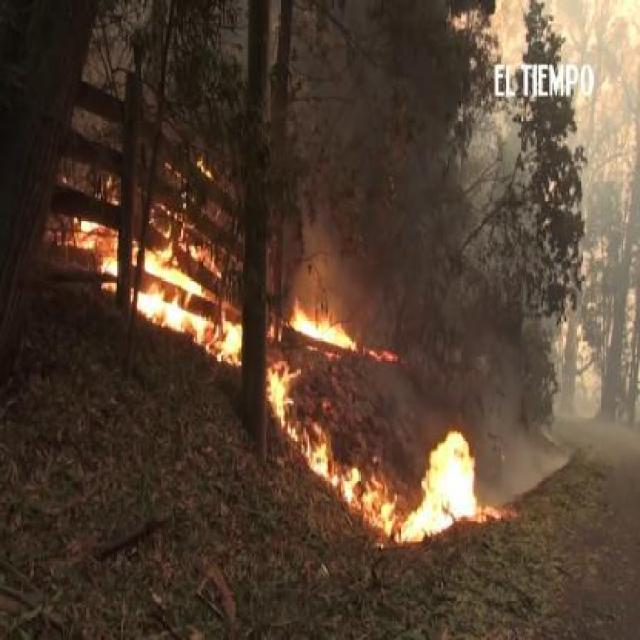Fire: (134, 222, 243, 372), (290, 425, 400, 545), (404, 432, 482, 540), (70, 212, 119, 292), (288, 300, 357, 352), (268, 352, 300, 439), (195, 150, 214, 182), (368, 347, 401, 365), (106, 174, 119, 208)
